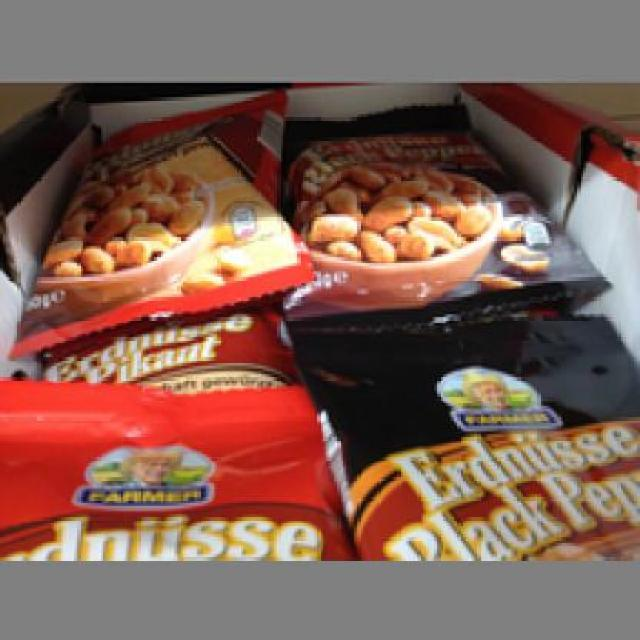Nuts: (282, 312, 638, 558), (272, 100, 612, 317), (14, 92, 300, 334)
